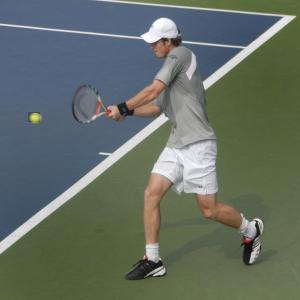TennisBall: (29, 113, 42, 124)
